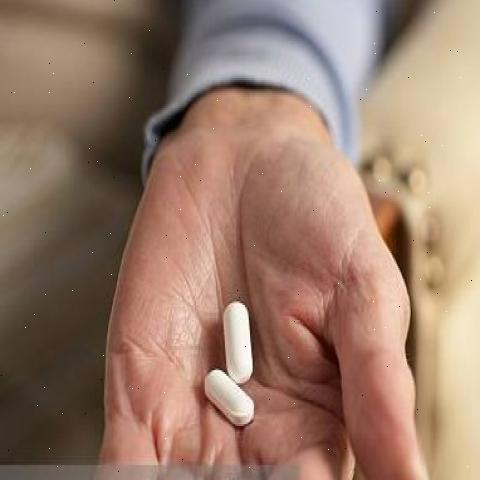Pill: (208, 286, 259, 388), (188, 361, 255, 435)
